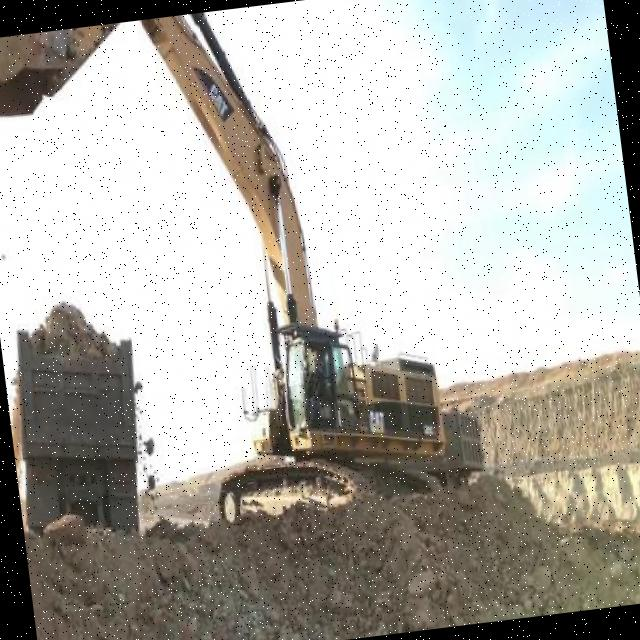Dump Truck: (0, 311, 154, 545), (441, 397, 489, 494)
Excavator: (0, 0, 450, 543)
